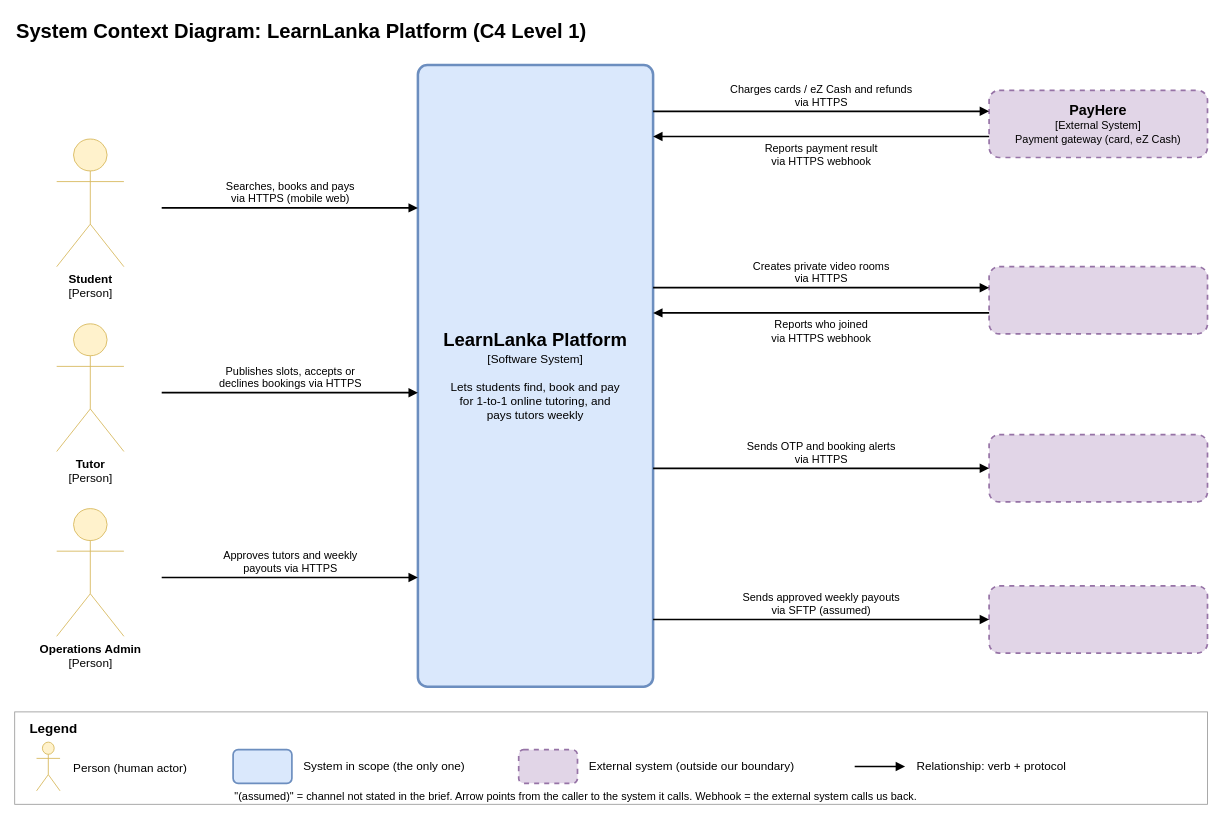
Some shapes in this 1223 by 819 pixel diagram are drawn without their labels. Here are the shapes that lost their labels. From the top down, the box of each, then its label:
(988, 265, 1208, 334): Video Provider [External System] Daily.co or 100ms (not yet chosen)
(988, 433, 1208, 502): SMS Gateway [External System] Sends SMS to users
(988, 585, 1208, 654): Sampath Vishwa [External System] Bank payouts to tutors
